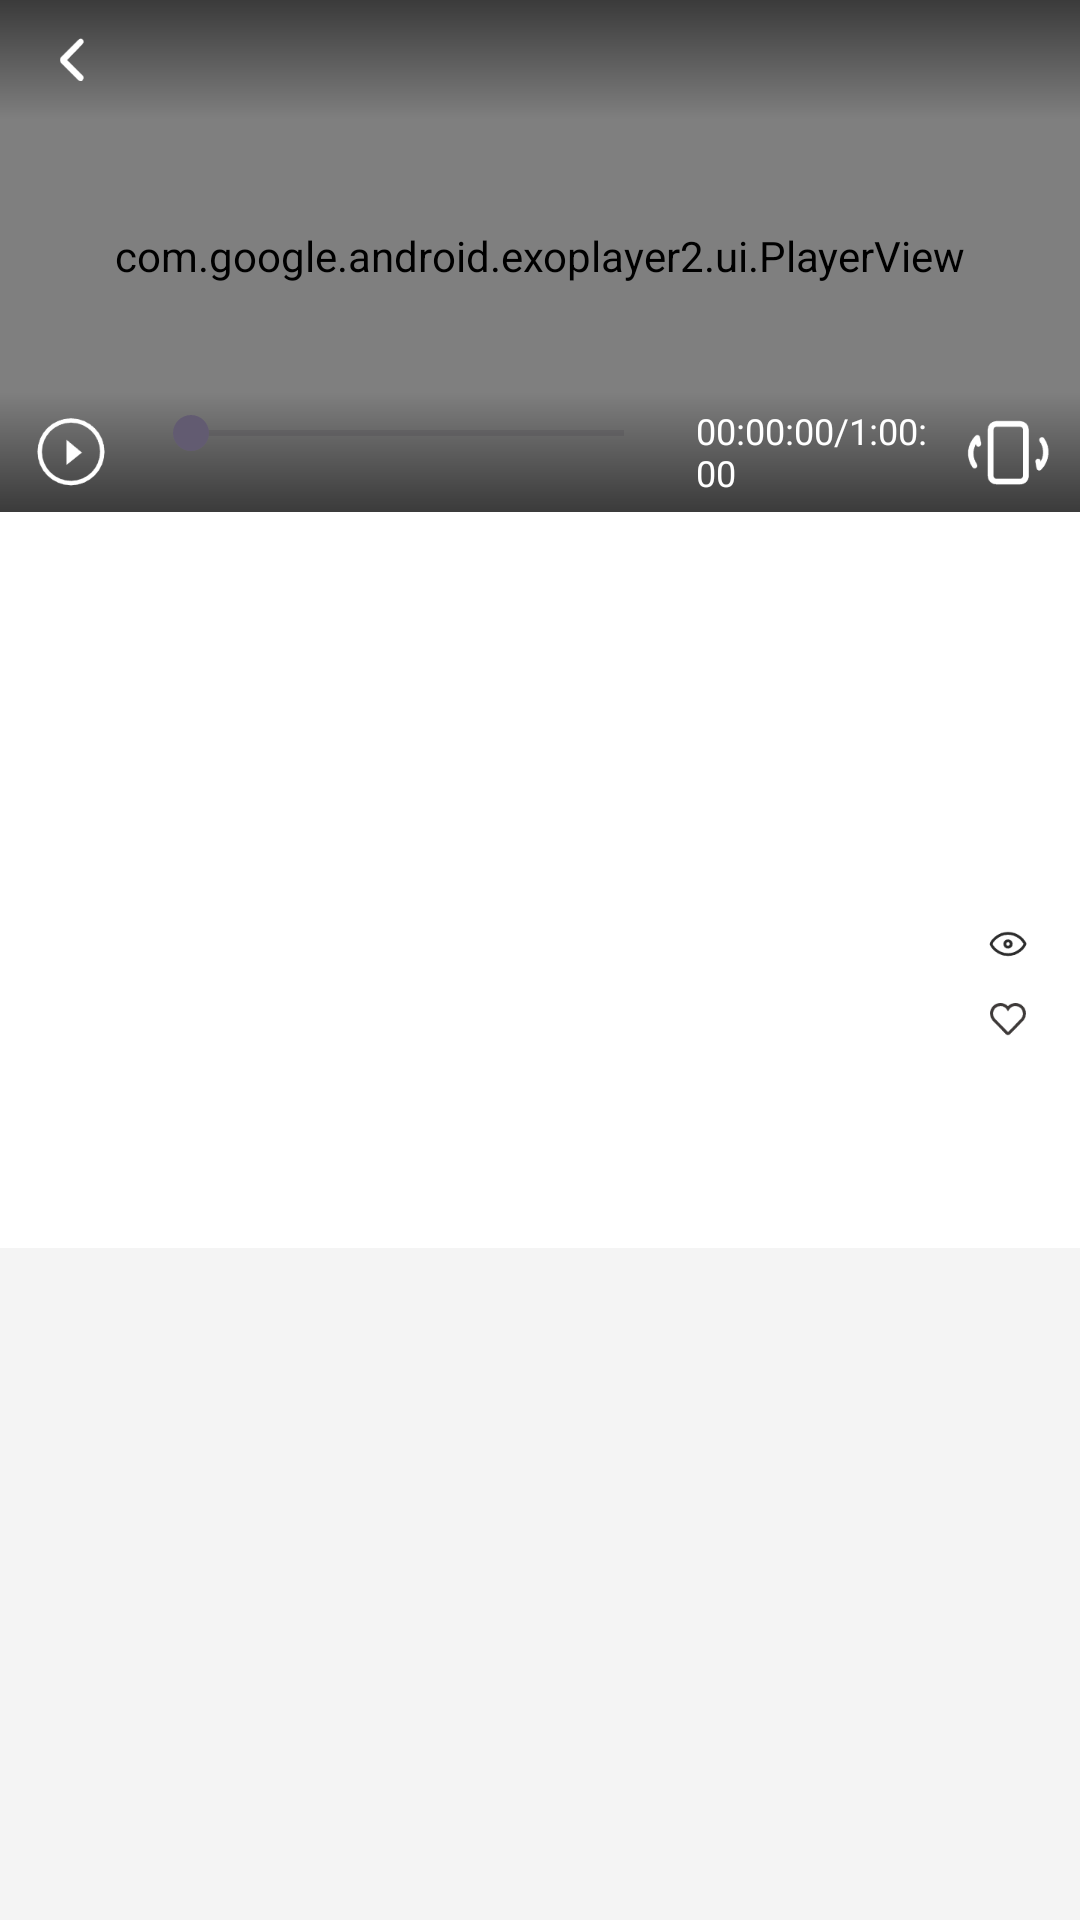

Point at icon controls on the screen. Image size 1080×1920, points as (x,y).
change screen: (1008,452)
like: (1008,1019)
views: (1008,944)
